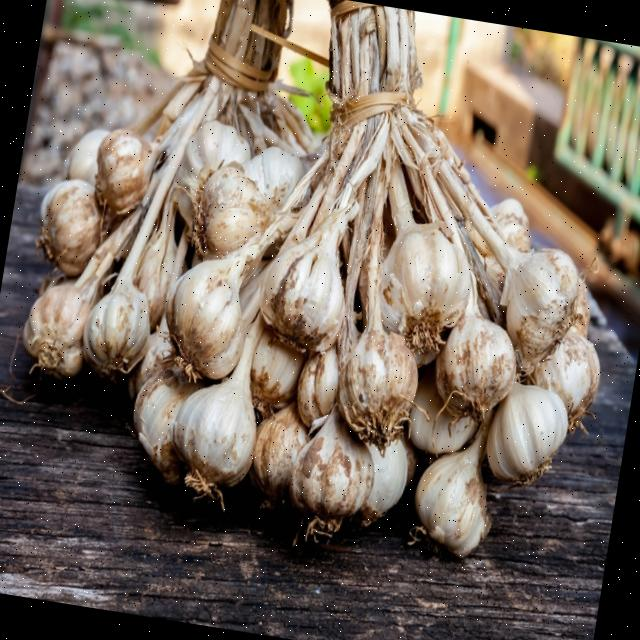garlic: (23, 0, 586, 533), (23, 84, 556, 534), (414, 409, 492, 555)
